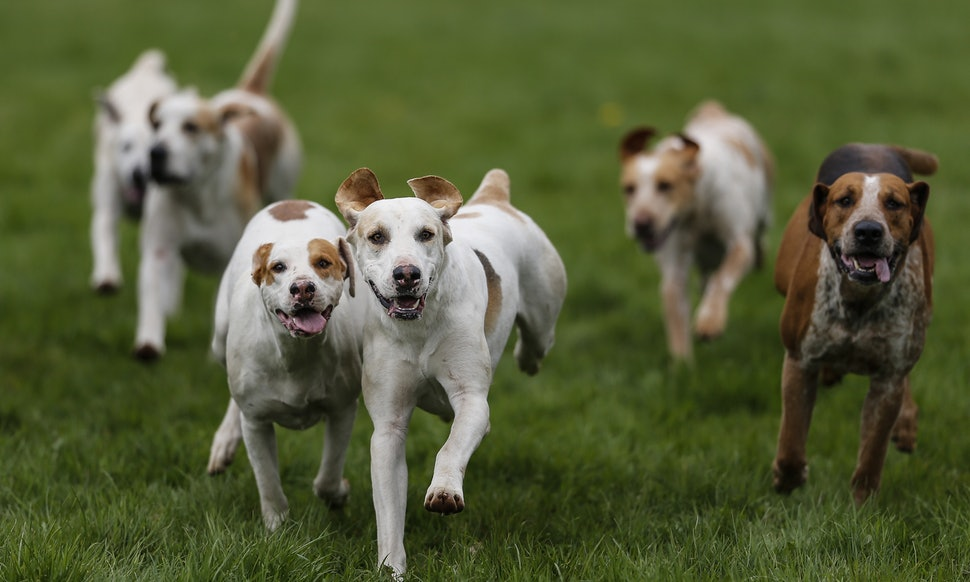dog: (335, 159, 570, 580), (767, 137, 952, 500), (130, 2, 312, 360), (203, 194, 367, 532), (610, 94, 780, 368), (84, 57, 178, 305)
